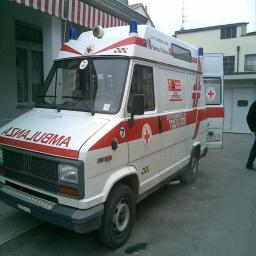ambulance: (0, 20, 221, 247)
